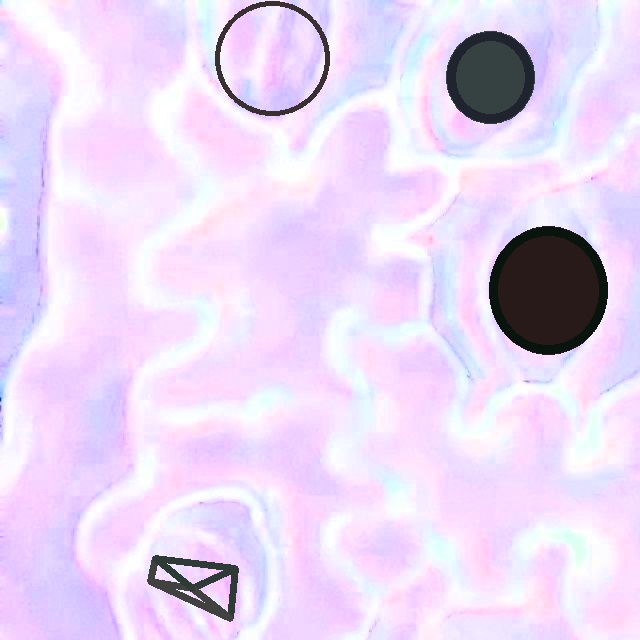close: (489, 226, 607, 353)
open: (214, 0, 330, 117), (446, 31, 535, 123), (147, 555, 238, 621)
